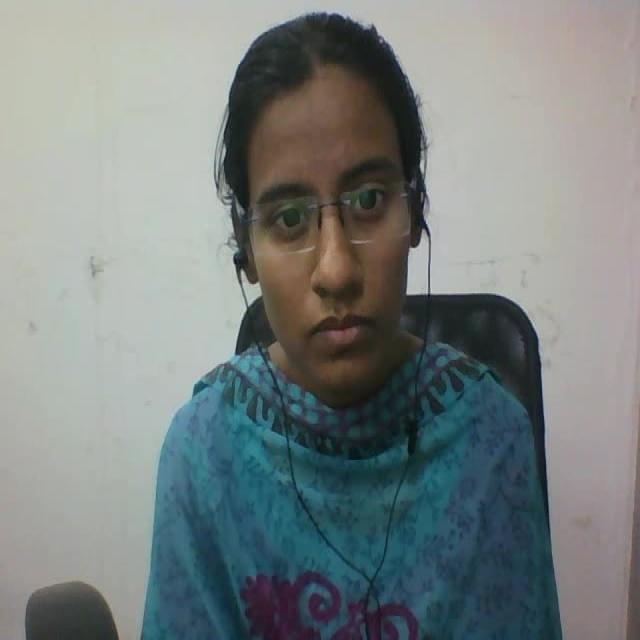Engaged: (187, 0, 463, 433)
